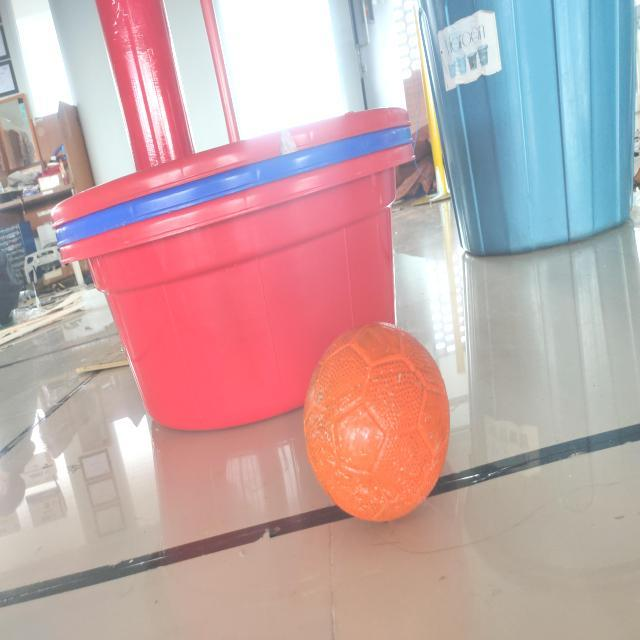bola: (296, 314, 459, 553)
